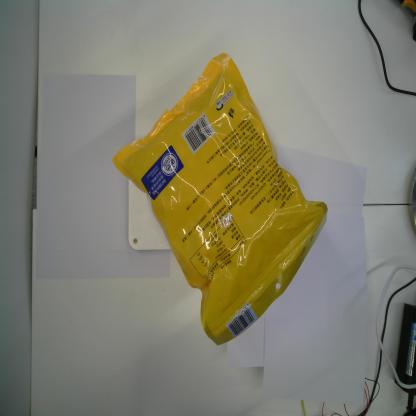Dried Food: (112, 50, 328, 352)
